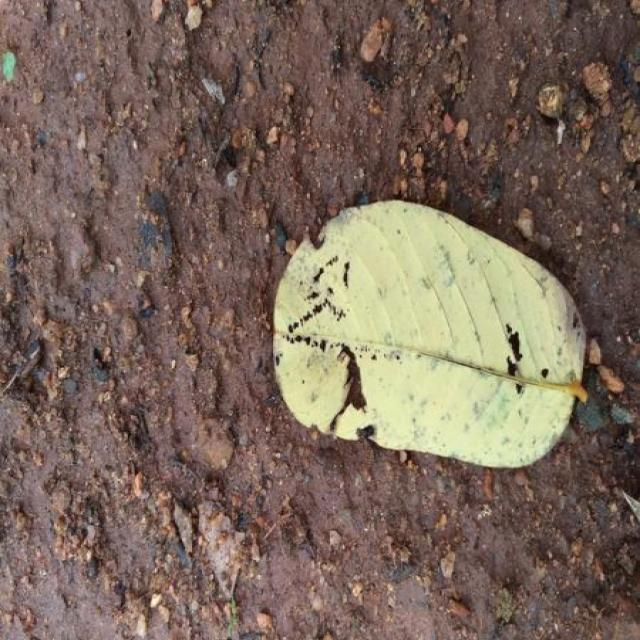alternaria blight: (275, 200, 587, 468)
